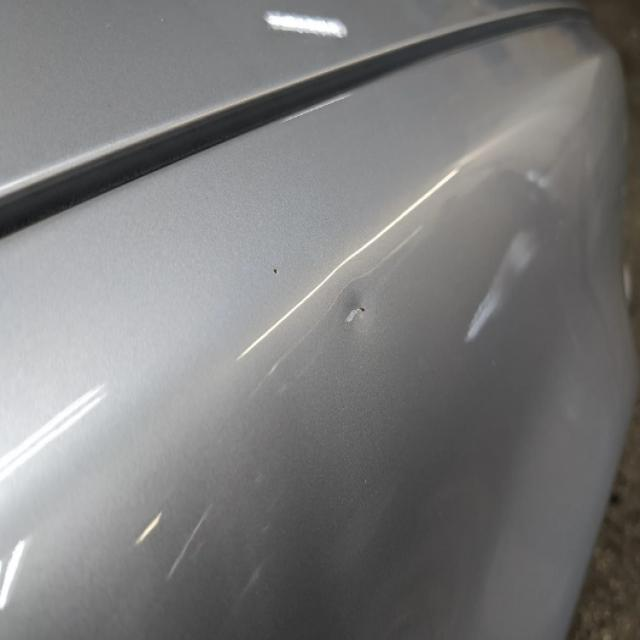dents: (321, 290, 395, 352)
